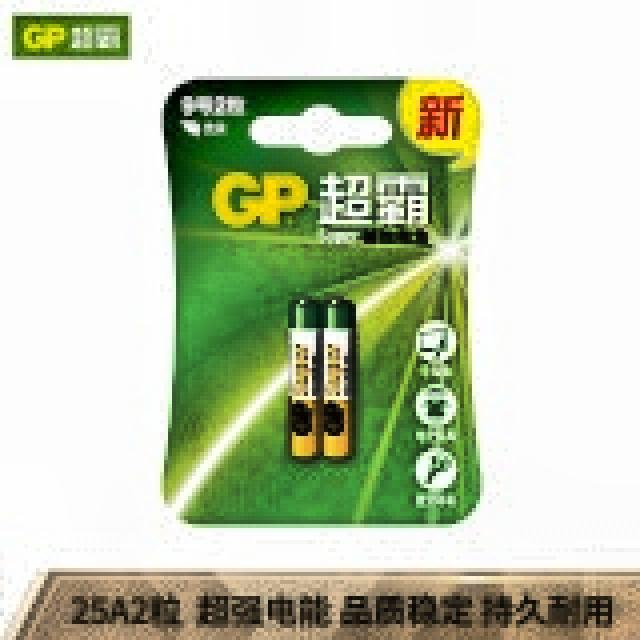Non-Valuable Waste - Batteries: (289, 299, 355, 460)
